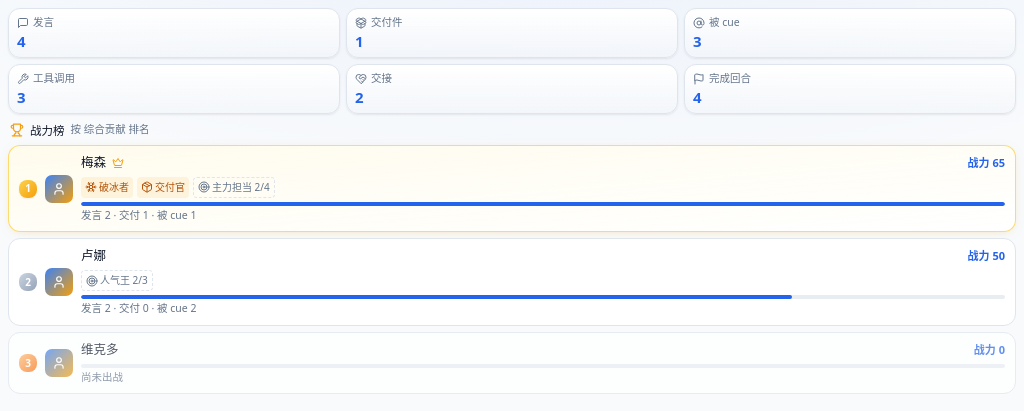
Test: StatsView 战力榜 › 点击指标卡切换排行维度，「返回综合」恢复默认排序
Click the button titled "按「被 cue」排名" at {"x": 724, "y": 22}, box [684, 8, 1016, 58]
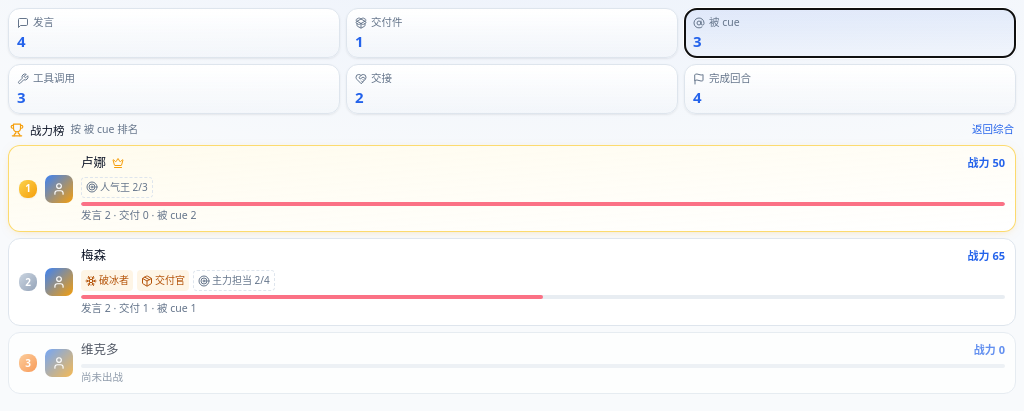
Now the text "按 被 cue 排名" is shown, box [70, 122, 138, 138]
Click the button "返回综合" at {"x": 993, "y": 130}, box [972, 122, 1014, 138]
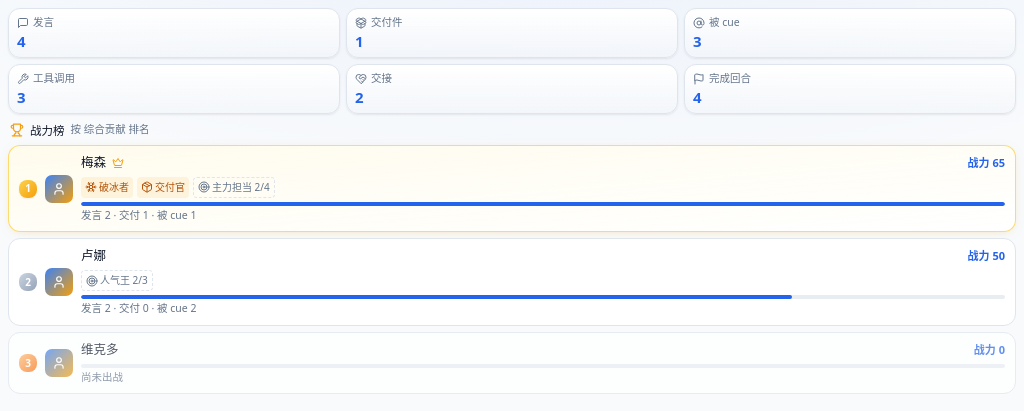
Now the text "按 综合贡献 排名" is shown, box [70, 122, 150, 138]
